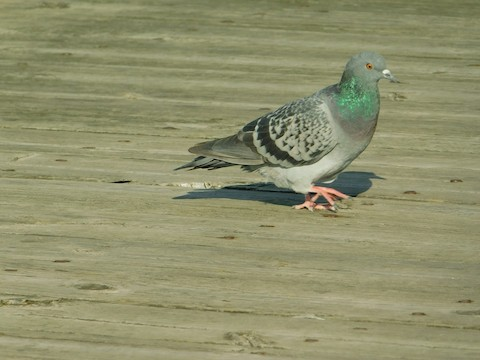pigeon: (174, 46, 402, 214)
